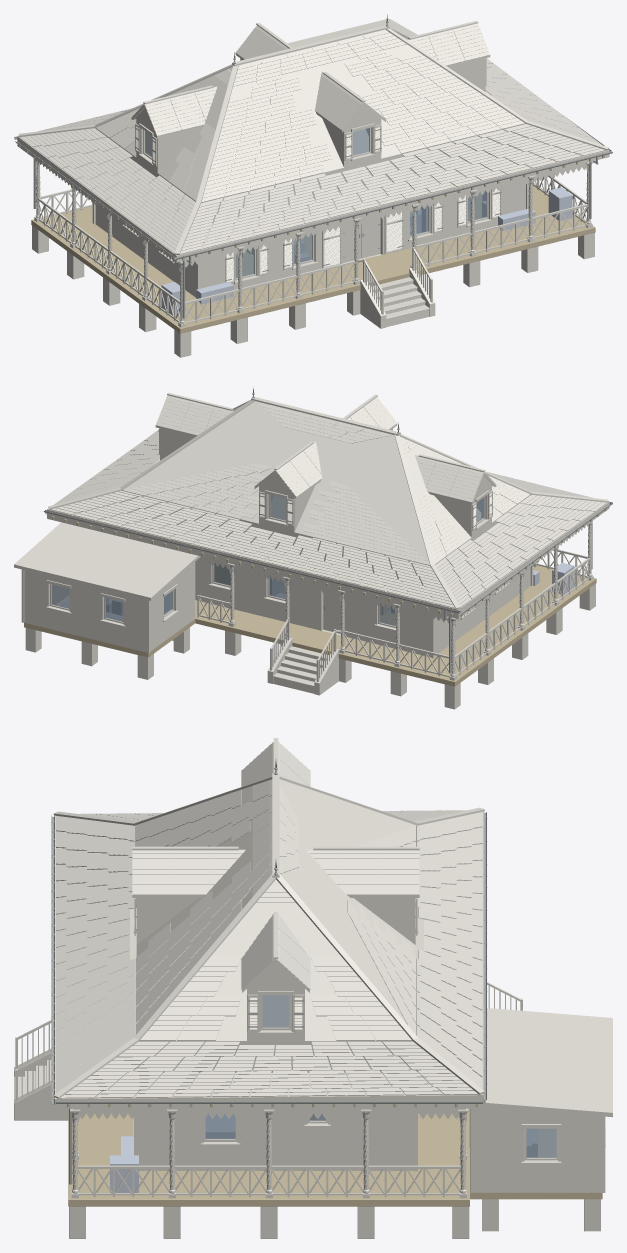
File: fond_h08.glb
The picture shows the model from 3 angles, top to bottom: view 1: azimuth 30°, elevation 25°; view 2: azimuth 150°, elevation 25°; view 3: azimuth 270°, elevation 25°; orthographic projection. The views are drawn at different scales.
Parts seen in each view (by area): view 1: Arch_new_roof_shingle_wood_weathered, Arch_white_peeling_timber, DeckSlab, Walls_Exterior_Core, RoofMain, Pillars, Arch_basalt_dressed, Det_Laden_Lamellen, Det_Fries_Lambrequin, Det_Dachrinnen_Fallrohre, Det_Laden_Rahmen, Arch_roof_steel_bluegrey (+5 smaller); view 2: Arch_new_roof_shingle_wood_weathered, Arch_white_peeling_timber, RoofMain, Walls_Exterior_Core, DeckSlab, Arch_roof_steel_bluegrey, Walls_Exterior_Pavilion, Pillars, Arch_basalt_dressed, Det_Dachrinnen_Fallrohre, Det_Fries_Lambrequin, DoorLeaf_02_R_in (+2 smaller); view 3: Arch_new_roof_shingle_wood_weathered, Arch_white_peeling_timber, RoofMain, DeckSlab, Walls_Exterior_Core, Arch_roof_steel_bluegrey, Walls_Exterior_Pavilion, Pillars, Det_Dachrinnen_Fallrohre, Arch_basalt_dressed, Det_Fries_Lambrequin, Win_PE_14_Glass (+5 smaller).
Part boxes in pixels (x1,y1,x2,y2): Arch_new_roof_shingle_wood_weathered: (18, 21, 608, 254); Arch_white_peeling_timber: (17, 58, 609, 327); DeckSlab: (31, 183, 595, 333); Walls_Exterior_Core: (95, 123, 525, 297); RoofMain: (112, 29, 501, 196); Pillars: (32, 225, 594, 357); Arch_basalt_dressed: (360, 267, 435, 328); Det_Laden_Lamellen: (136, 126, 499, 281); Det_Fries_Lambrequin: (40, 163, 585, 267); Det_Dachrinnen_Fallrohre: (14, 115, 612, 318); Det_Laden_Rahmen: (135, 58, 501, 283); Arch_roof_steel_bluegrey: (288, 18, 417, 47); Arch_new_roof_shingle_wood_weathered: (48, 392, 608, 608); Arch_white_peeling_timber: (21, 428, 609, 681); RoofMain: (124, 401, 515, 563); Walls_Exterior_Core: (122, 490, 530, 657); DeckSlab: (24, 565, 596, 686); Arch_roof_steel_bluegrey: (14, 522, 200, 600); Walls_Exterior_Pavilion: (24, 562, 195, 652); Pillars: (25, 584, 595, 709); Arch_basalt_dressed: (267, 637, 338, 695); Det_Dachrinnen_Fallrohre: (43, 429, 612, 672); Det_Fries_Lambrequin: (196, 524, 588, 623); DoorLeaf_02_R_in: (323, 589, 341, 633); Arch_new_roof_shingle_wood_weathered: (53, 738, 484, 1098); Arch_white_peeling_timber: (15, 811, 605, 1198); RoofMain: (136, 779, 415, 1040); DeckSlab: (68, 1108, 602, 1206); Walls_Exterior_Core: (137, 1041, 414, 1170); Arch_roof_steel_bluegrey: (483, 1008, 612, 1117); Walls_Exterior_Pavilion: (470, 1107, 601, 1192); Pillars: (69, 1199, 600, 1238); Det_Dachrinnen_Fallrohre: (51, 812, 486, 1184); Arch_basalt_dressed: (14, 1048, 68, 1120); Det_Fries_Lambrequin: (80, 1110, 457, 1118); Win_PE_14_Glass: (526, 1128, 556, 1157).
Size of the model in its own units: 20.02 by 9.54 by 17.6.
